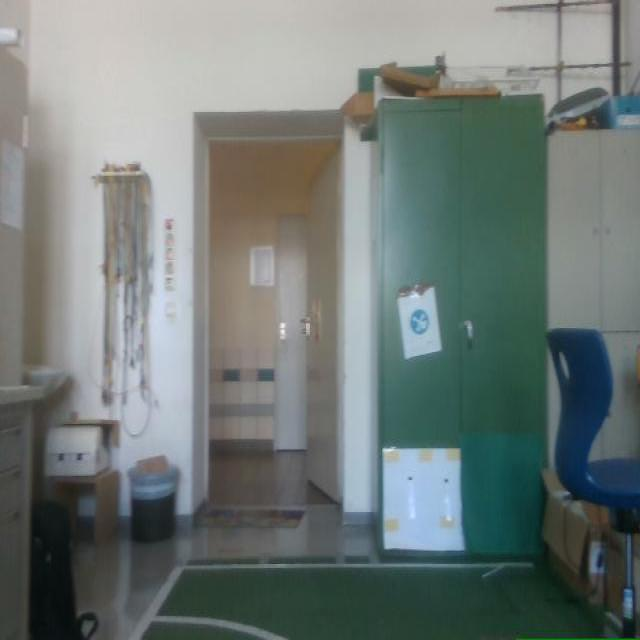objects: (364, 95, 546, 558), (547, 328, 639, 637), (30, 502, 97, 639), (45, 426, 108, 477), (546, 88, 609, 133)
